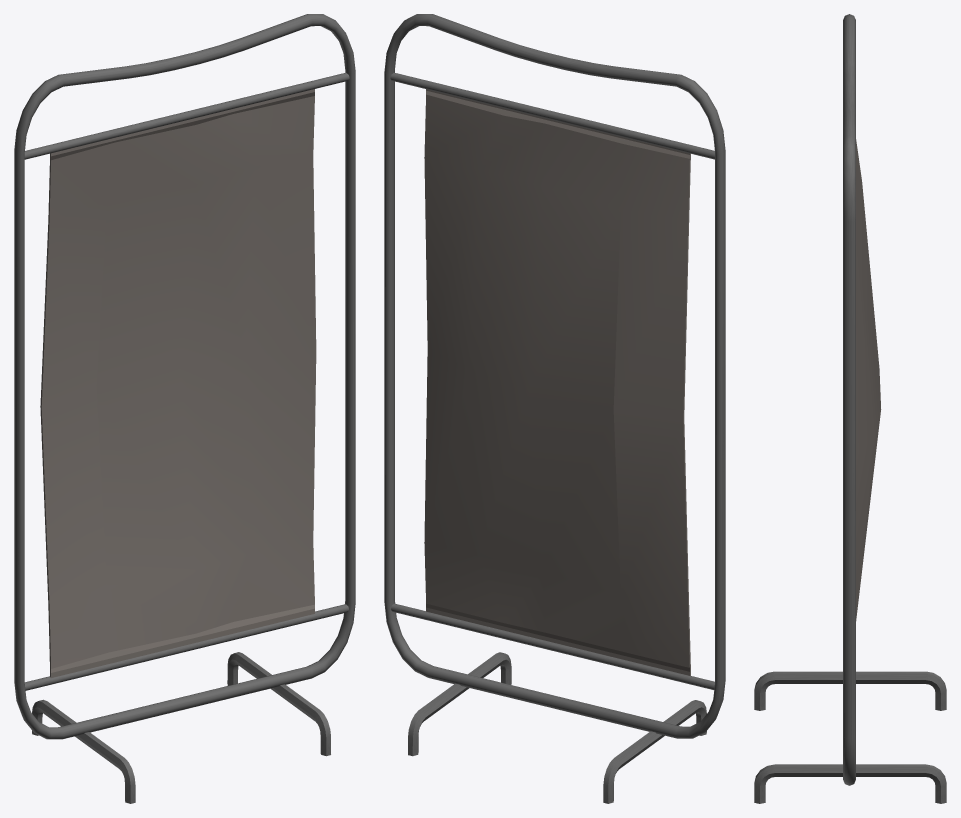
The model's file is SoftWall.fbx.
3 renders of one model, left to right at view 1: azimuth 30°, elevation 25°; view 2: azimuth 150°, elevation 25°; view 3: azimuth 270°, elevation 25°, orthographic. The views are drawn at different scales.
Visible parts, largest first — view 1: Cube.120; view 2: Cube.120; view 3: Cube.120.
Part boxes in pixels (x1,y1,x2,y2): Cube.120: (14,14,355,803); Cube.120: (384,14,725,803); Cube.120: (754,14,946,803).
Size of the model in its own units: 176 by 347 by 89.
